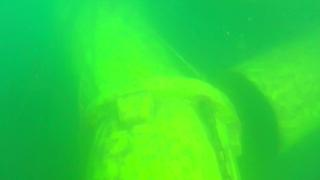pipe: (65, 1, 233, 113), (90, 101, 244, 180), (225, 29, 320, 155)
